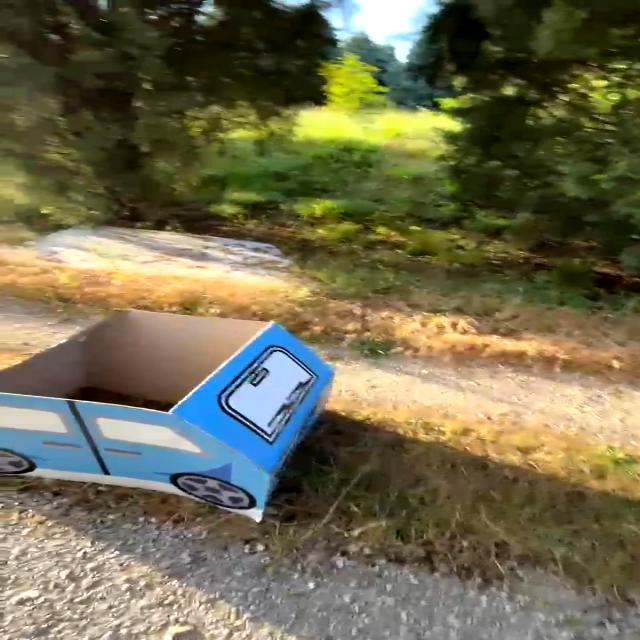blue_car: (0, 299, 404, 548)
